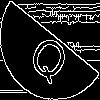Q: (25, 24, 77, 87)
